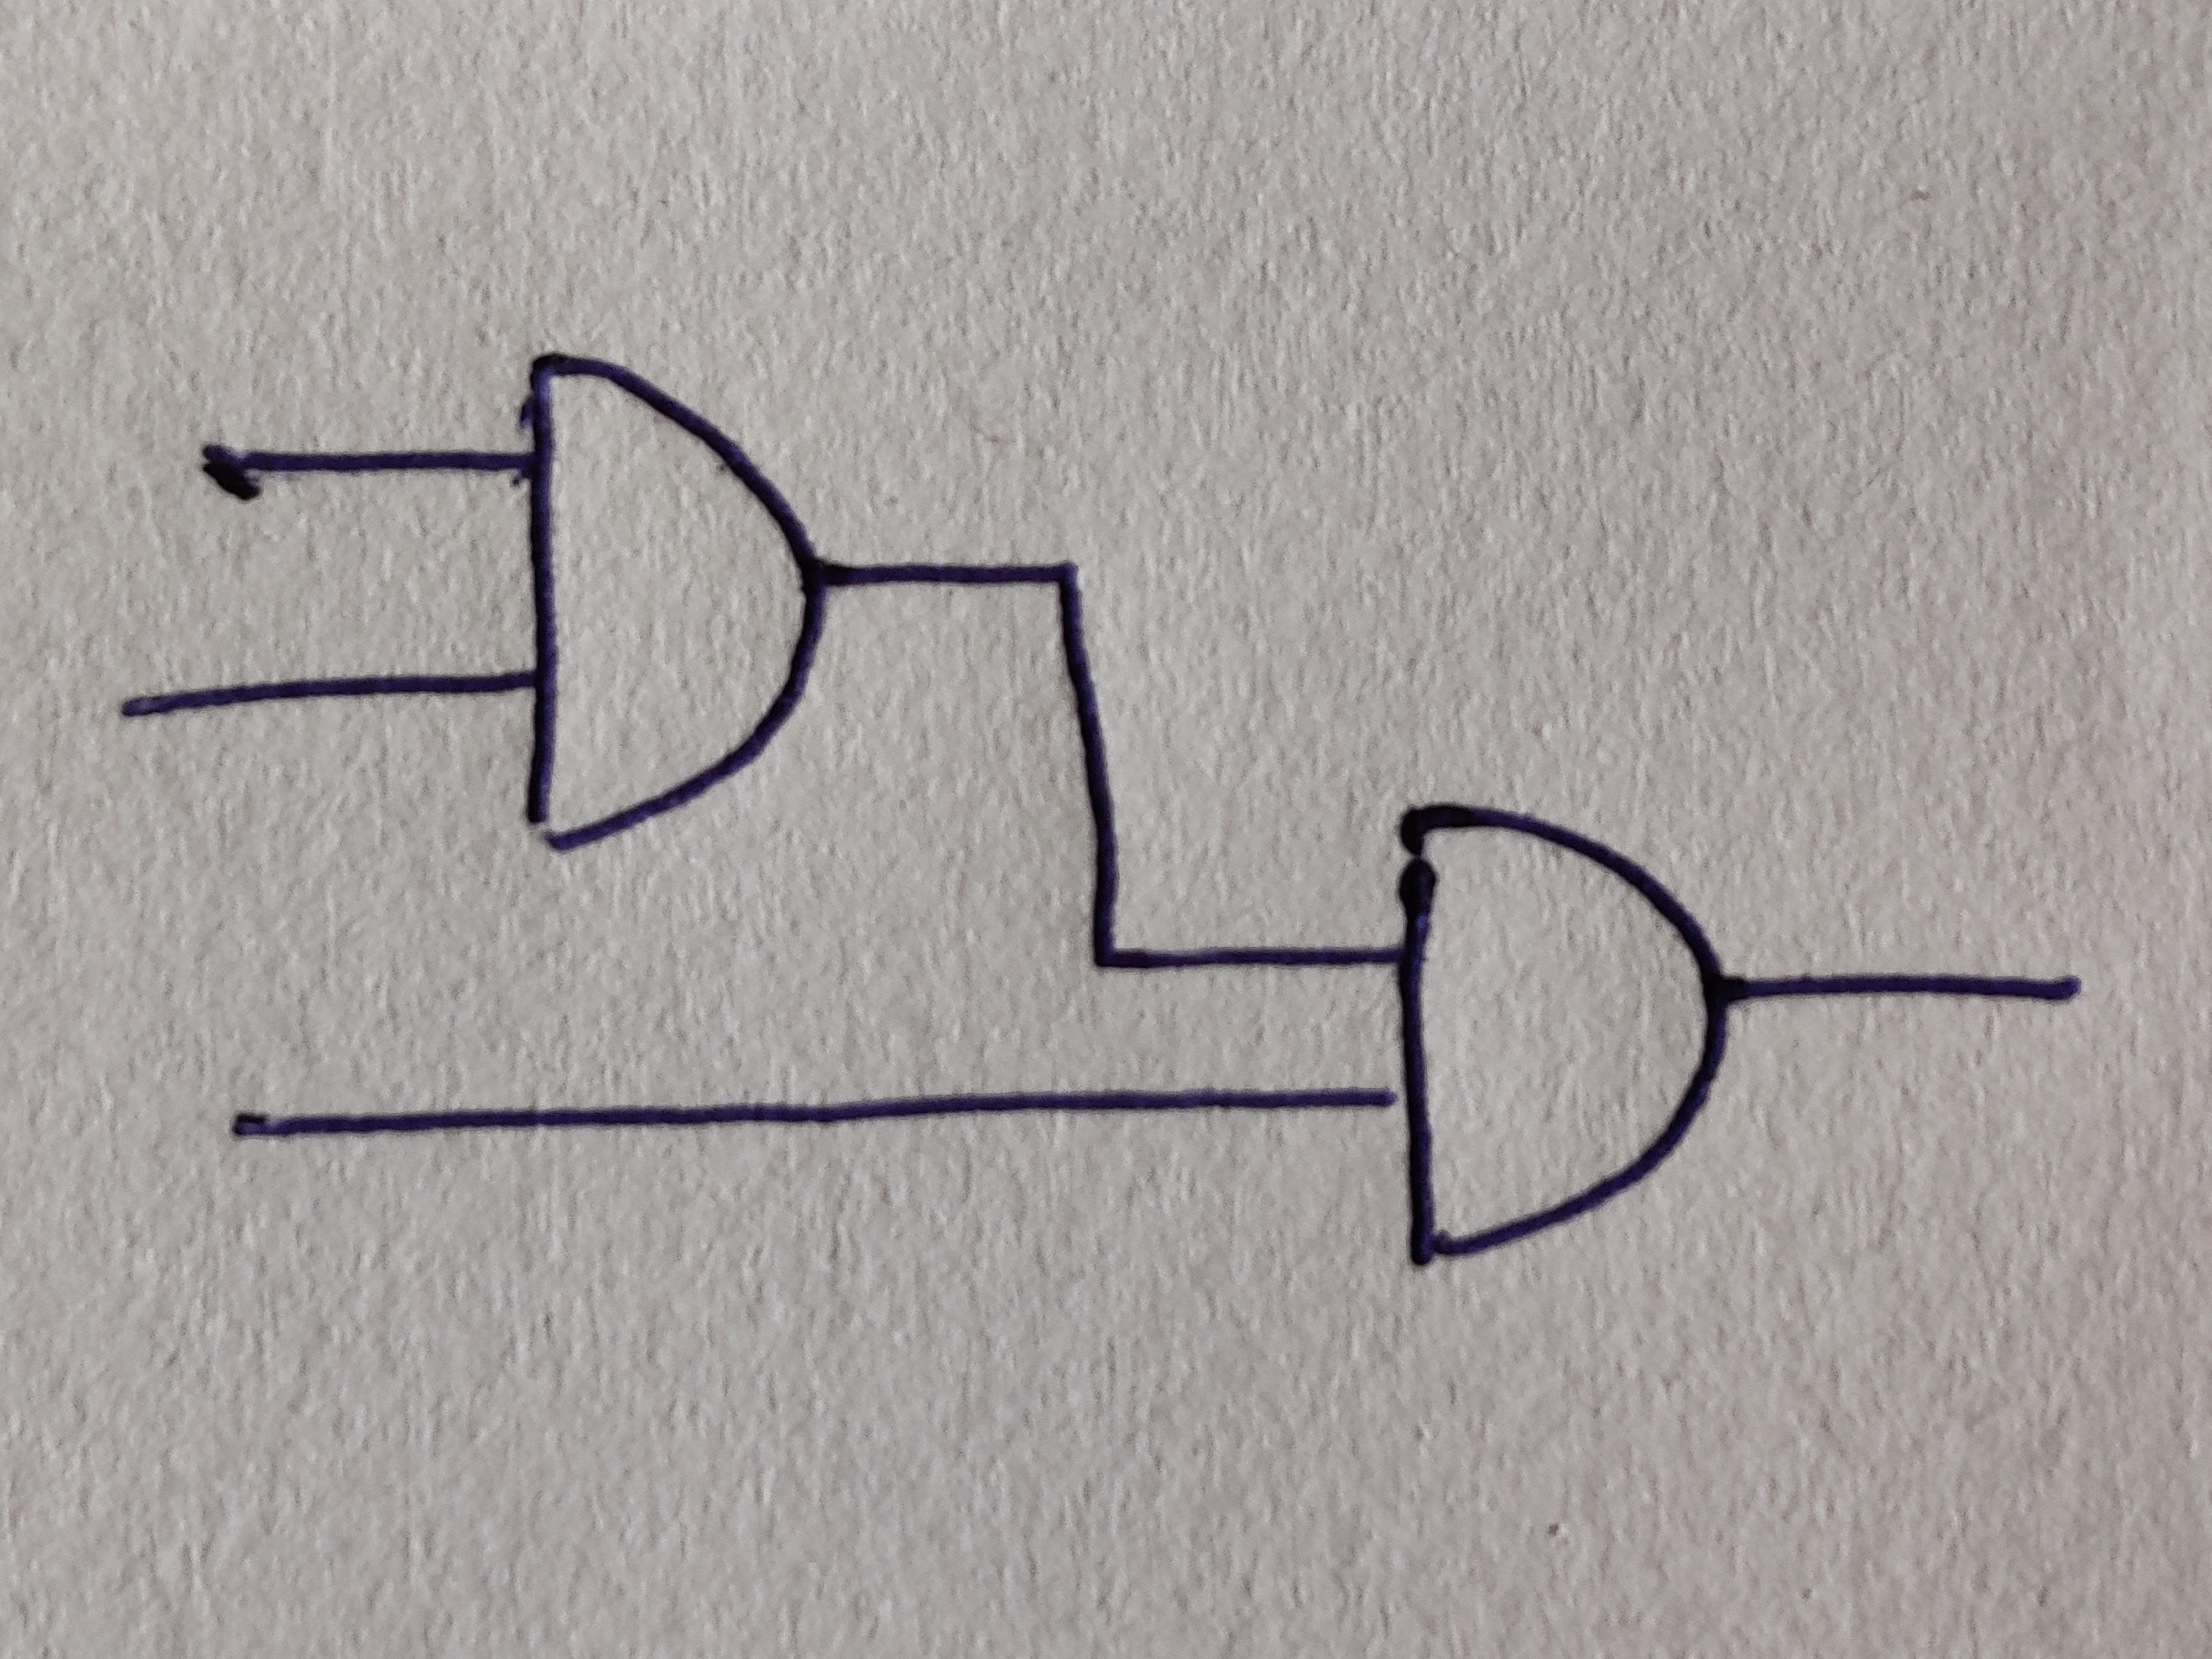and: (1395, 802, 1730, 1269), (529, 352, 827, 849)
